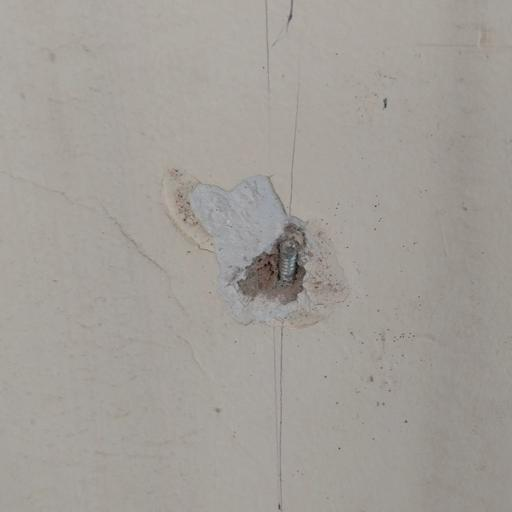spalling: (162, 159, 371, 349)
